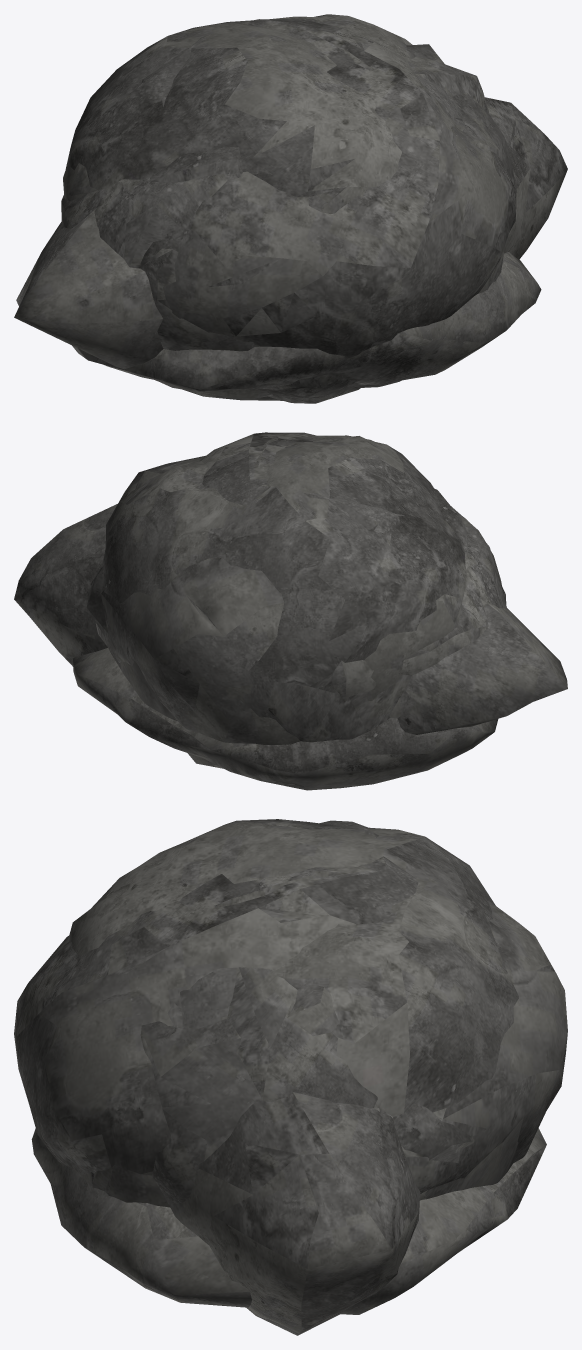
Rendered from rocks_moon.glb.
The picture shows the model from 3 angles, top to bottom: view 1: azimuth 30°, elevation 25°; view 2: azimuth 150°, elevation 25°; view 3: azimuth 270°, elevation 25°; orthographic projection. The views are drawn at different scales.
Parts seen in each view (by area): view 1: Rock_0, Rock_1, Rock_5, Rock_4, Rock_2, Rock_3; view 2: Rock_1, Rock_0, Rock_5, Rock_4, Rock_2, Rock_3; view 3: Rock_0, Rock_1, Rock_5, Rock_4, Rock_3, Rock_2.
Boxes of the visible parts, bbox=[...] form: Rock_0: bbox=[63, 19, 516, 391]; Rock_1: bbox=[65, 14, 503, 387]; Rock_5: bbox=[14, 97, 567, 399]; Rock_4: bbox=[72, 252, 541, 391]; Rock_2: bbox=[61, 26, 489, 400]; Rock_3: bbox=[149, 44, 516, 403]; Rock_1: bbox=[101, 435, 506, 742]; Rock_0: bbox=[95, 432, 501, 744]; Rock_5: bbox=[14, 504, 567, 734]; Rock_4: bbox=[73, 648, 498, 790]; Rock_2: bbox=[105, 436, 507, 702]; Rock_3: bbox=[86, 469, 467, 768]; Rock_0: bbox=[14, 820, 567, 1193]; Rock_1: bbox=[68, 819, 523, 1207]; Rock_5: bbox=[170, 1092, 420, 1335]; Rock_4: bbox=[31, 1128, 546, 1314]; Rock_3: bbox=[140, 982, 474, 1207]; Rock_2: bbox=[214, 869, 377, 1108].
Bounding box in the file's own units: 1.36 × 0.7698 × 0.9413.
Materials: 1 (1 with a texture image).
